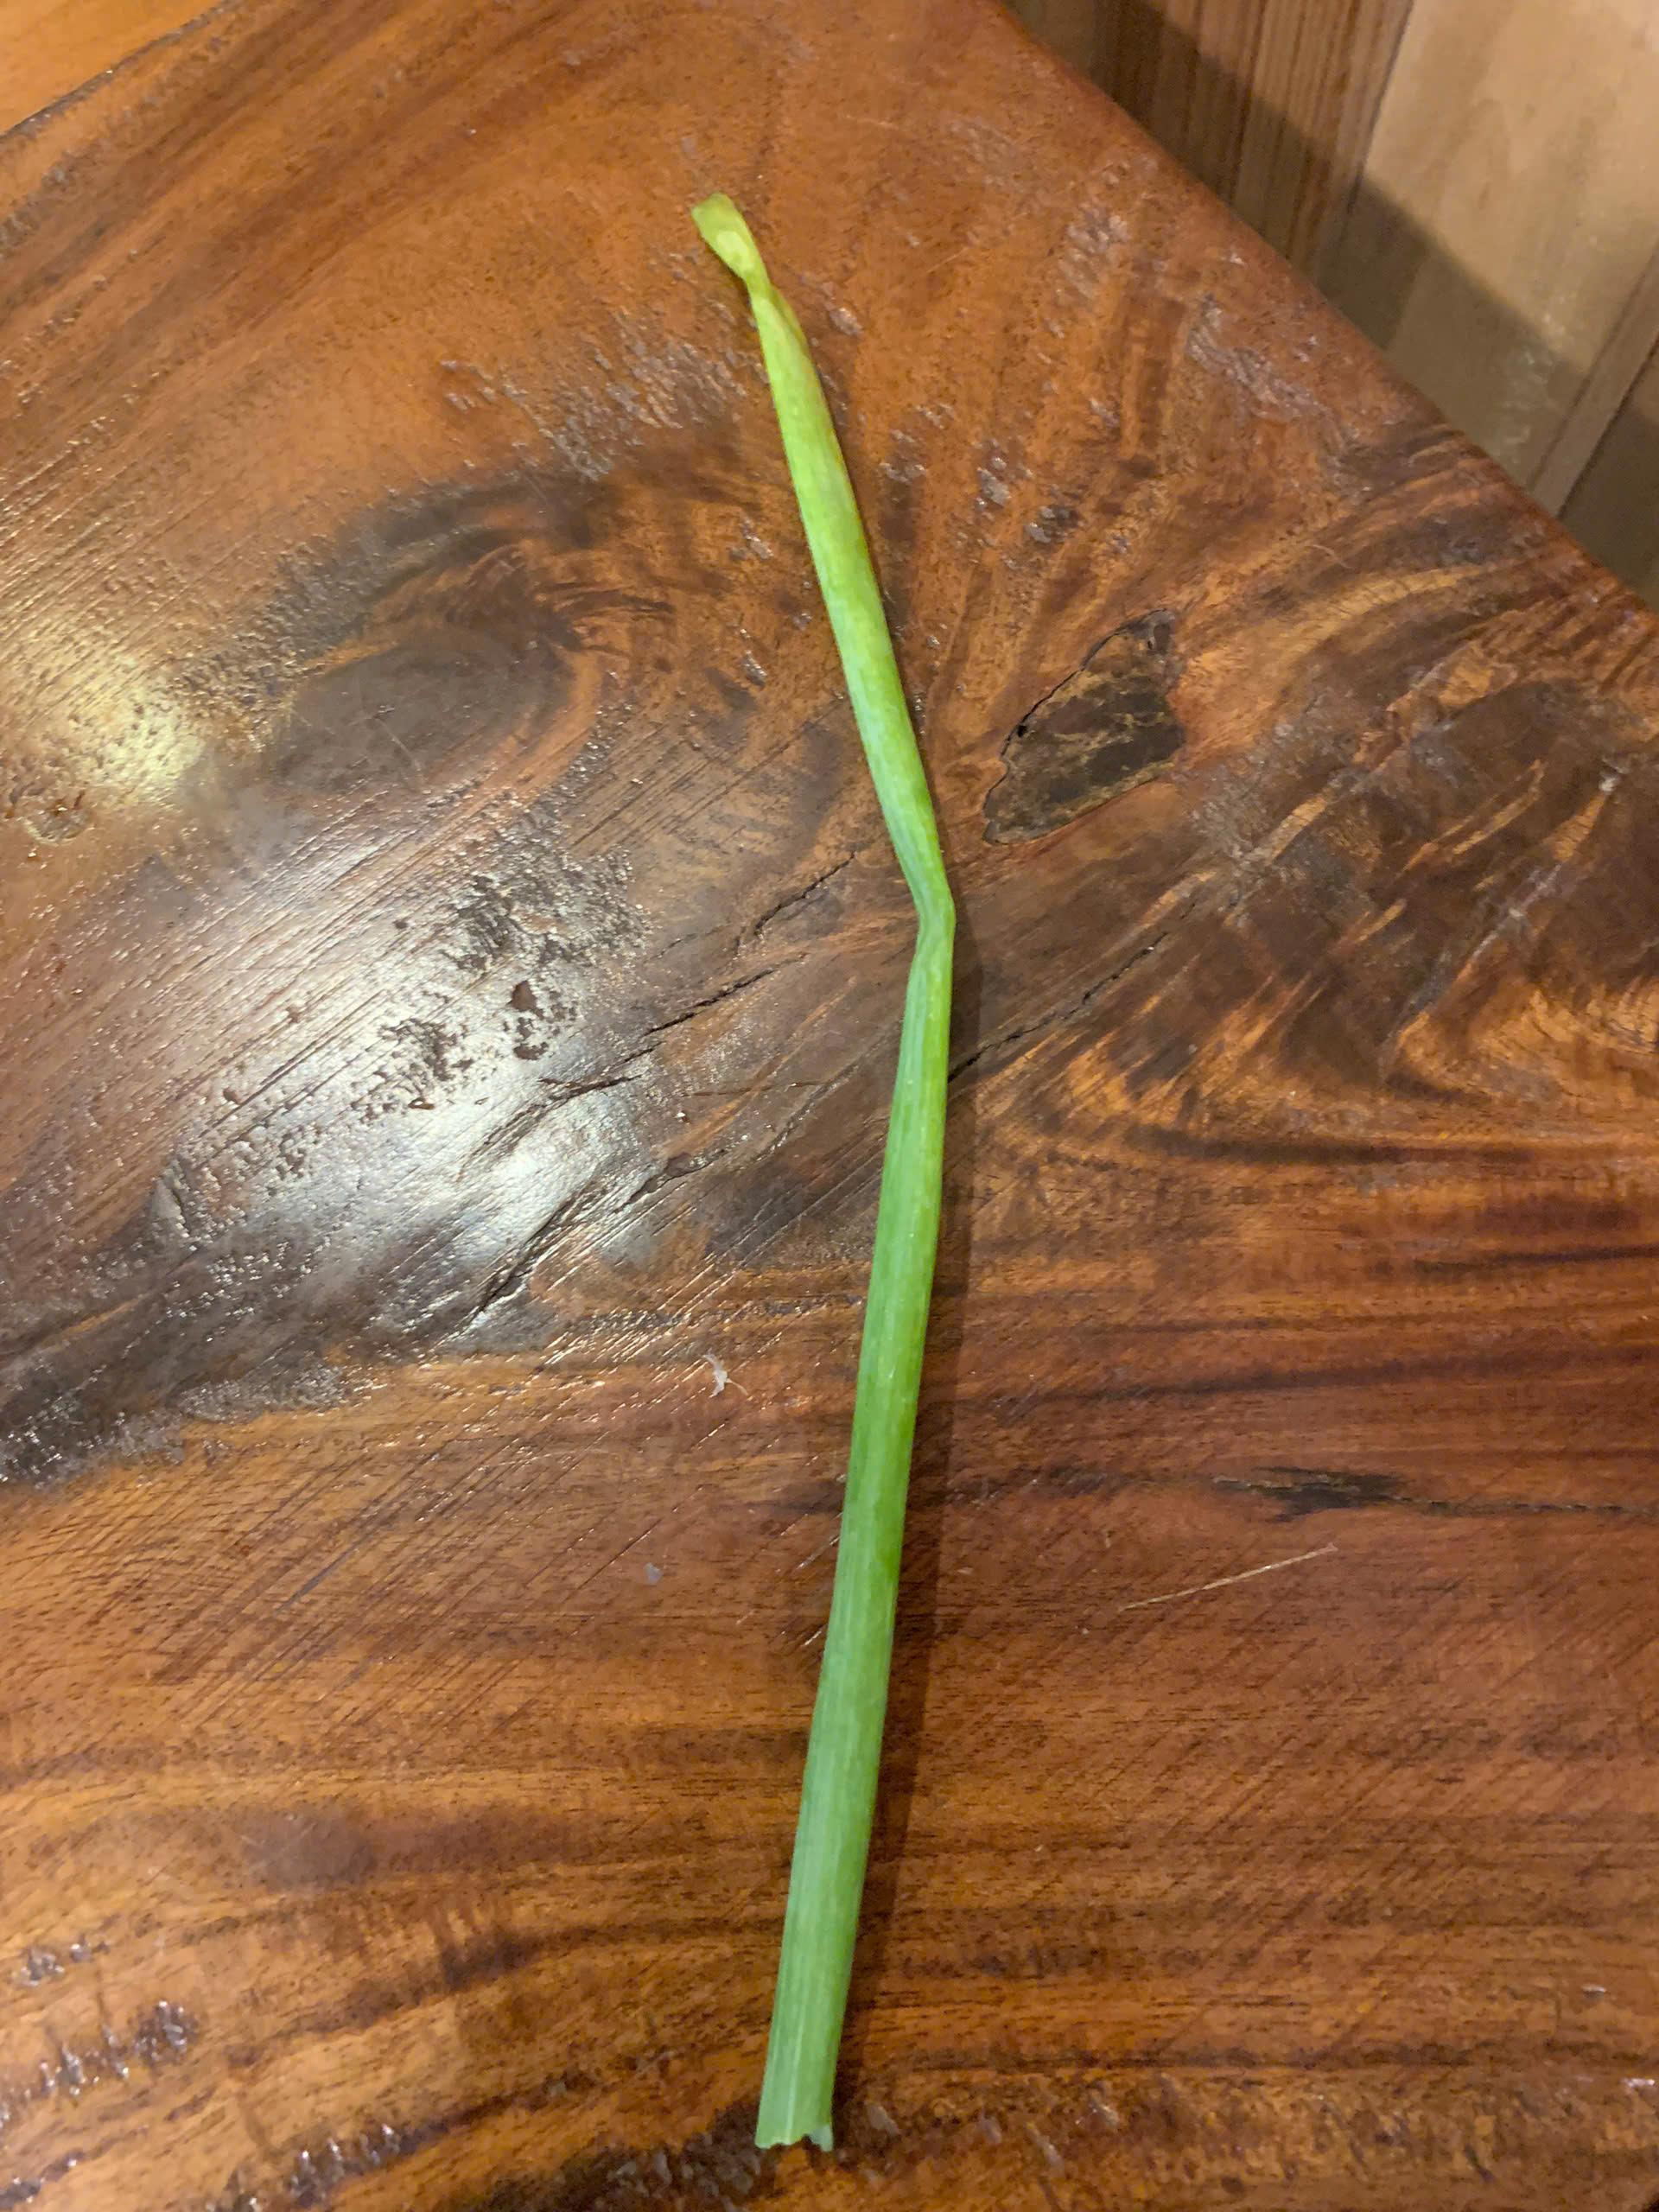Huu co: (701, 200, 953, 2165)
